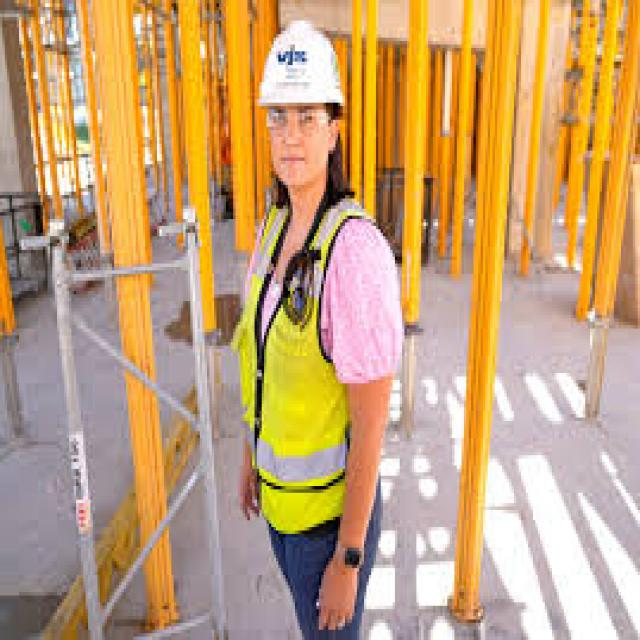Reflective-Jacket: (226, 185, 374, 541)
Safety-Helmet: (250, 10, 354, 123)
